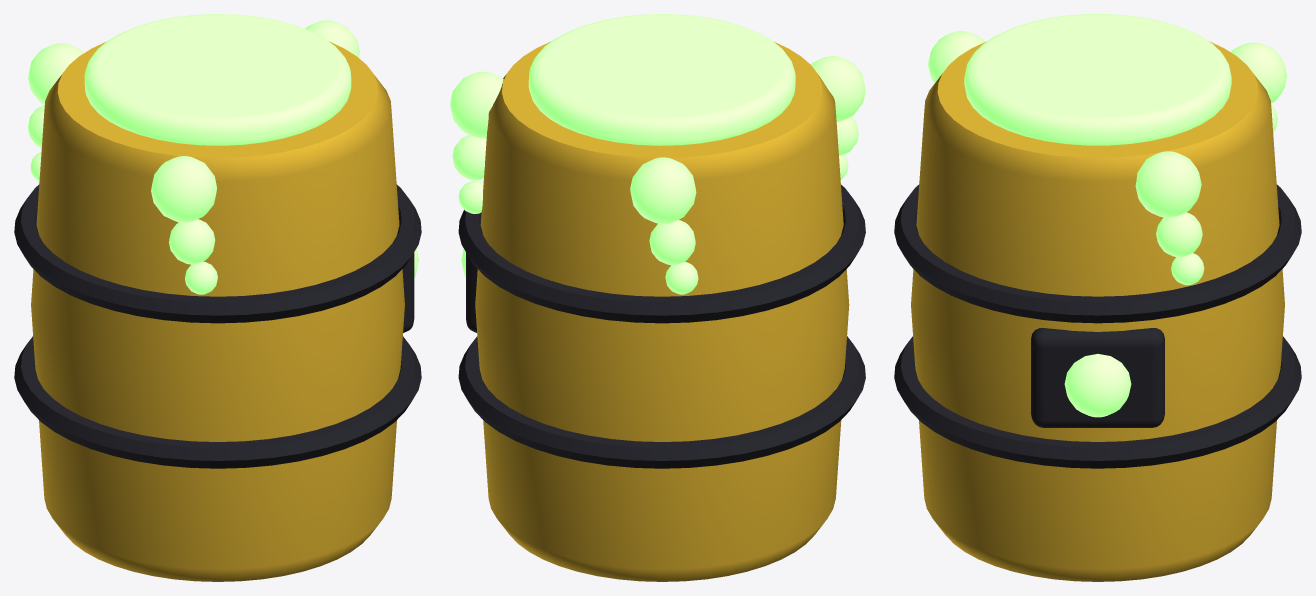
The model's file is toxic_barrel.glb.
The picture shows the model from 3 angles, left to right: view 1: azimuth 30°, elevation 25°; view 2: azimuth 150°, elevation 25°; view 3: azimuth 270°, elevation 25°; orthographic projection.
Visible parts, largest first — view 1: toxic_barrel; view 2: toxic_barrel; view 3: toxic_barrel.
Boxes of the visible parts, x1,y1,x2,y2 form: toxic_barrel: (14, 14, 421, 581); toxic_barrel: (450, 14, 865, 581); toxic_barrel: (894, 14, 1301, 581).
Size of the model in its own units: 0.6442 by 0.74 by 0.6096.
Materials: 1 (1 with a texture image).
